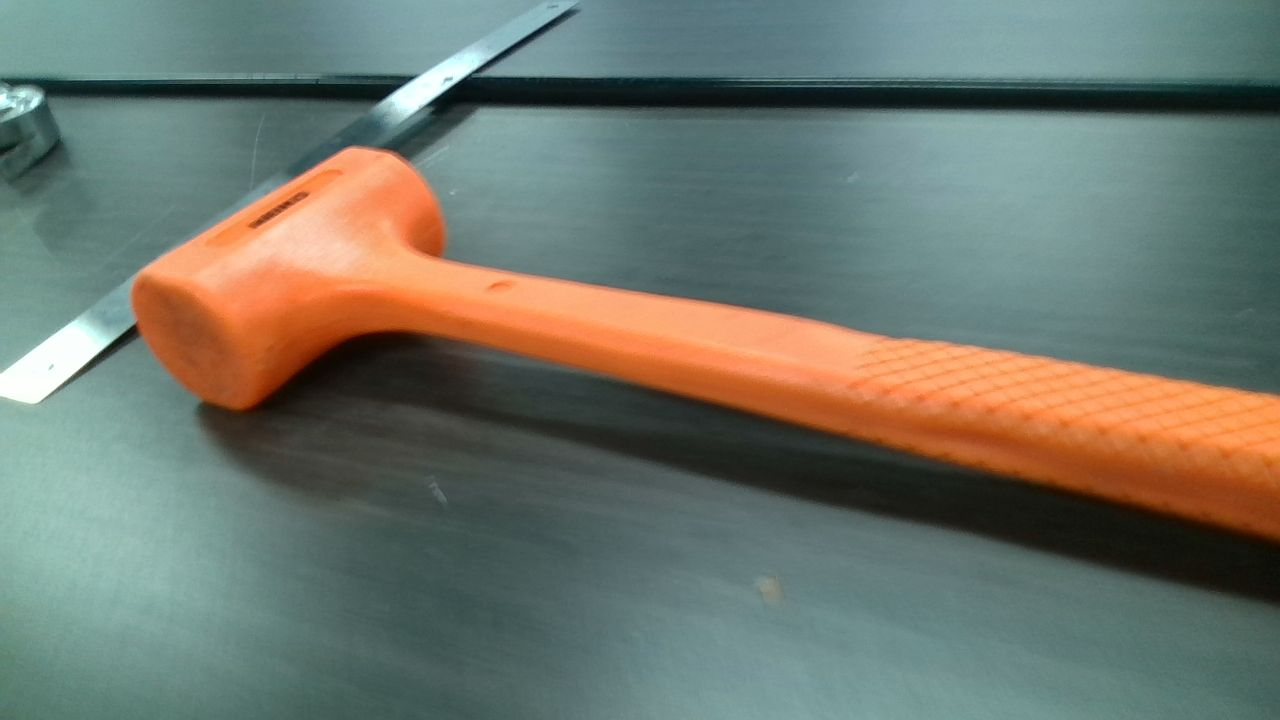Orange Hammer: (100, 143, 1280, 596)
